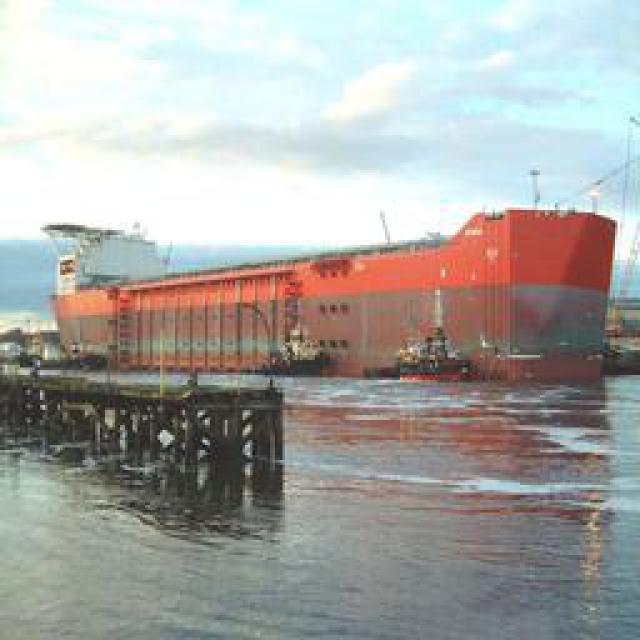Ship: (43, 152, 633, 396)
